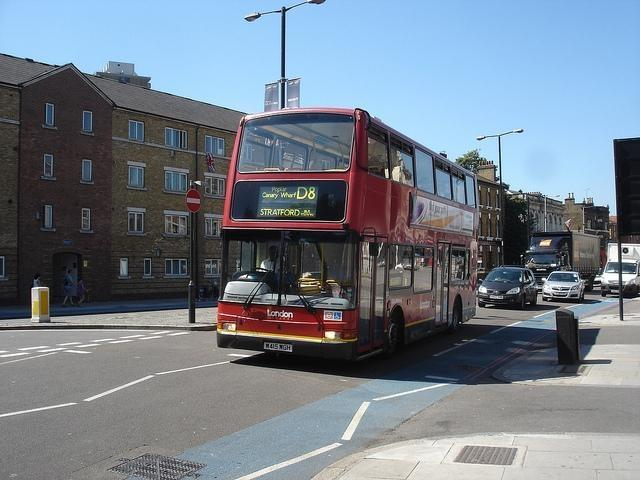bus: (216, 104, 482, 362)
car: (480, 264, 539, 311), (542, 271, 586, 303)
truck: (522, 232, 602, 288), (600, 244, 640, 299)
